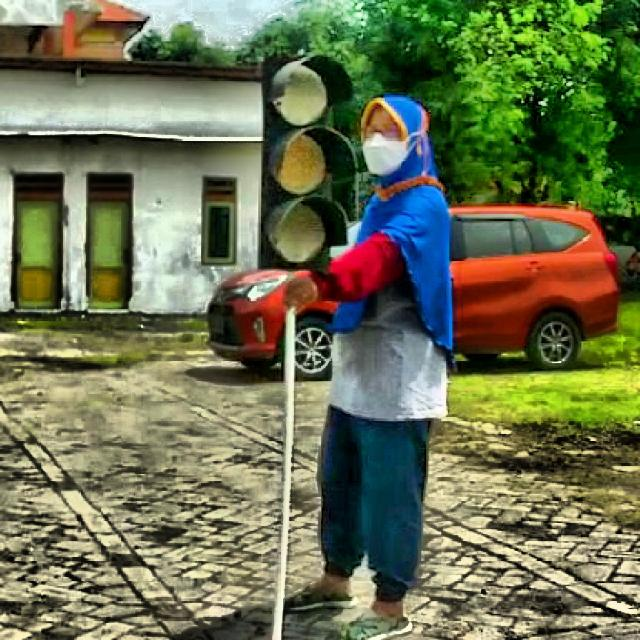yellow: (255, 51, 351, 268)
